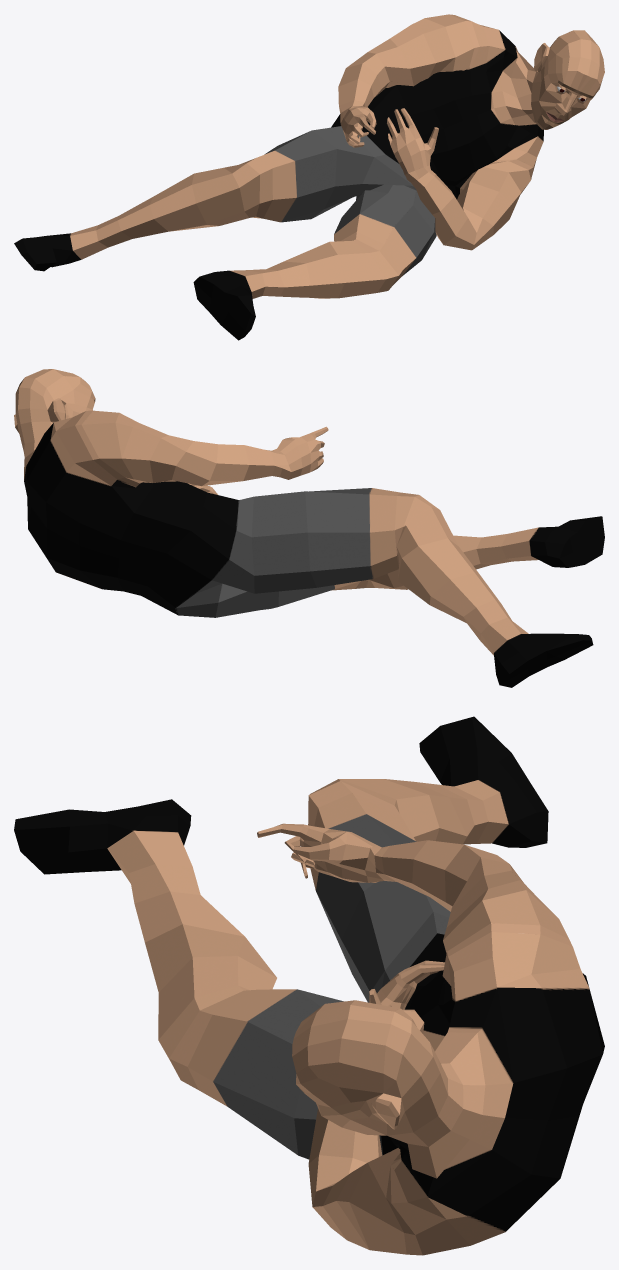
The model's file is PlayerDead(47).obj.
The picture shows the model from 3 angles, top to bottom: view 1: azimuth 30°, elevation 25°; view 2: azimuth 150°, elevation 25°; view 3: azimuth 270°, elevation 25°; orthographic projection. The views are drawn at different scales.
Parts seen in each view (by area): view 1: Plane002; view 2: Plane002; view 3: Plane002.
Part boxes in pixels (left/top/right/bottom): Plane002: left=14, top=14, right=604, bottom=340; Plane002: left=14, top=369, right=604, bottom=687; Plane002: left=14, top=716, right=604, bottom=1255.
Size of the model in its own units: 1693 by 563 by 862.
